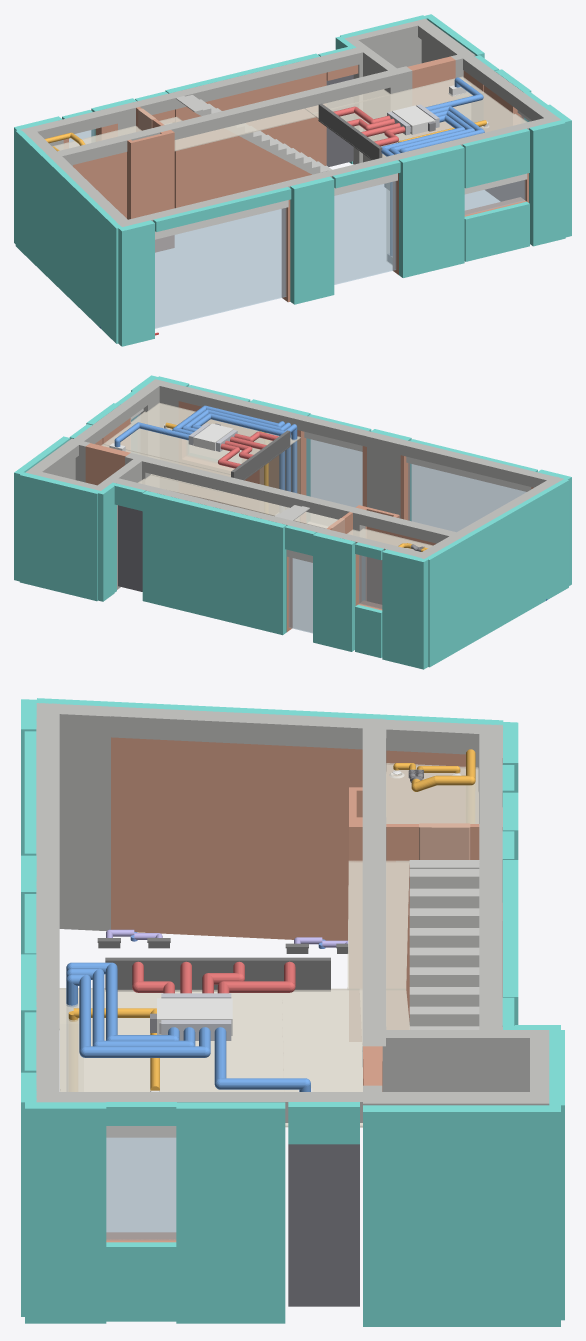
Rendered from HouseEM_AR_GF_open.glb.
3 views of the same model, one above another, from view 1: azimuth 30°, elevation 25°; view 2: azimuth 150°, elevation 25°; view 3: azimuth 270°, elevation 25° (orthographic). The views are drawn at different scales.
Parts seen in each view (by area): view 1: GF-ET12, GF-EO06, GF-BW11, GF-ET07, GF-EO05, GF-ET09, GF-ET13, GF-BEAM08, GF-ET05, GF-BEAM05, GF-COL07, GF-EO04-SILL-ET (+38 smaller); view 2: GF-ET08, GF-ET12, GF-ET02, GF-ET11, GF-EO06, GF-ET10, GF-CL03, GF-BEAM08, GF-EO05, GF-BEAM02, GF-BEAM01, GF-COL02 (+39 smaller); view 3: GF-BW08, GF-ET01, GF-ET04, GF-ET06, GF-CL03, GF-ST01, GF-AD02, GF-COL03, GF-BEAM03, GF-CL04, GF-EO03, GF-COL06 (+44 smaller).
Boxes of the visible parts, x1,y1,x2,y2 form: GF-ET12: (15,130,121,343); GF-EO06: (155,208,286,328); GF-BW11: (173,72,326,208); GF-ET07: (399,145,464,277); GF-EO05: (334,181,396,284); GF-ET09: (290,176,334,304); GF-ET13: (118,220,154,346); GF-BEAM08: (160,66,412,139); GF-ET05: (529,120,565,246); GF-BEAM05: (115,45,371,114); GF-COL07: (344,18,475,164); GF-EO04-SILL-ET: (464,201,529,261); GF-ET08: (142,491,286,635); GF-ET12: (425,479,568,666); GF-ET02: (19,472,100,601); GF-ET11: (382,549,429,669); GF-EO06: (408,463,526,531); GF-ET10: (313,532,355,651); GF-CL03: (103,402,300,474); GF-BEAM08: (125,453,362,519); GF-EO05: (306,438,362,507); GF-BEAM02: (152,379,372,446); GF-BEAM01: (367,432,549,487); GF-COL02: (138,379,183,491); GF-BW08: (111,737,362,940); GF-ET01: (363,1105,560,1326); GF-ET04: (176,1102,285,1323); GF-ET06: (25,1102,106,1323); GF-CL03: (59,988,283,1091); GF-ST01: (409,860,479,1029); GF-AD02: (288,1144,359,1306); GF-COL03: (36,703,112,930); GF-BEAM03: (36,703,381,749); GF-CL04: (282,988,362,1127); GF-EO03: (106,1137,176,1240); GF-COL06: (363,1026,479,1091).
Bounding box in the file's own units: 12.6 × 3.05 × 7.
